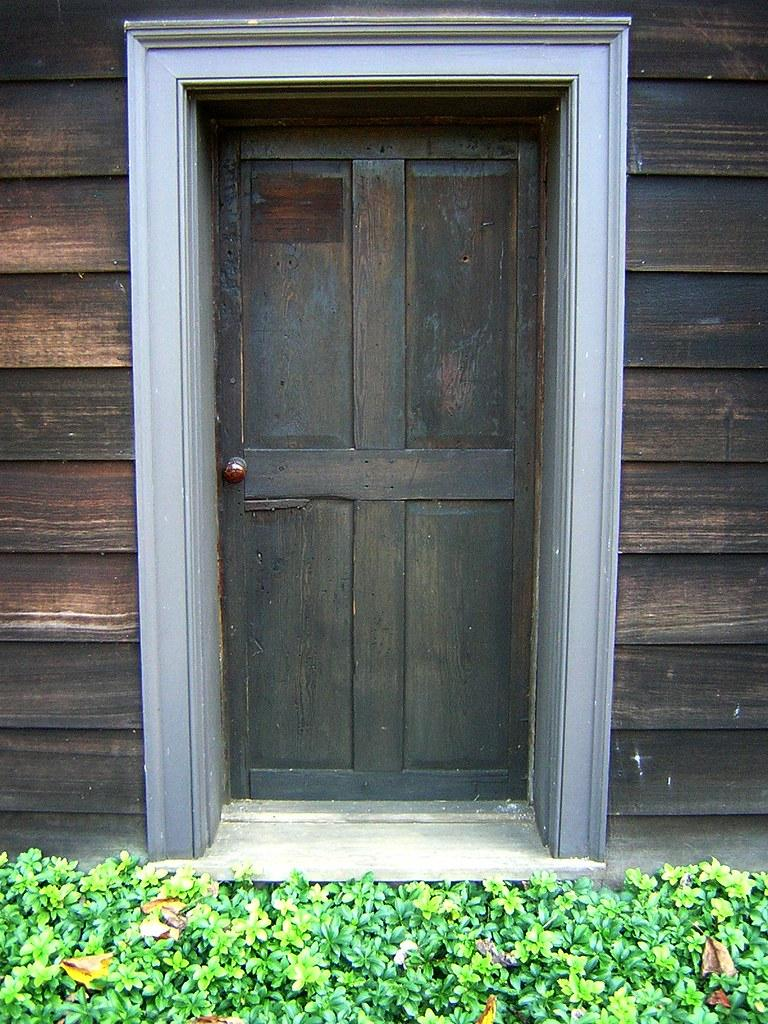door: (211, 111, 548, 804)
